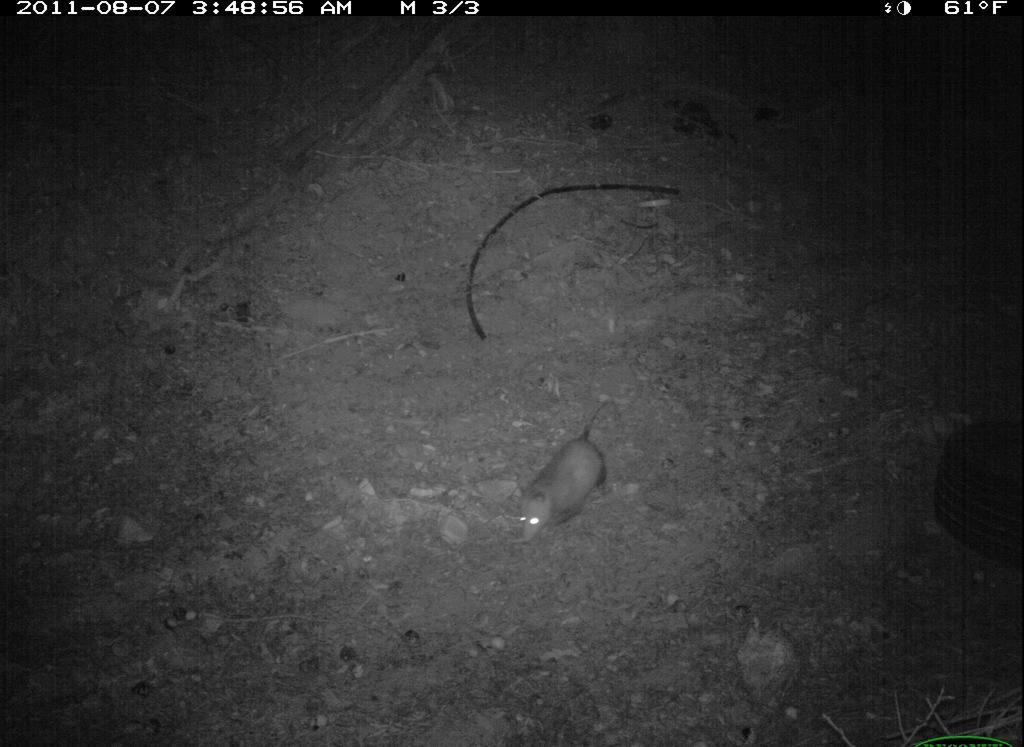opossum: (504, 392, 632, 555)
